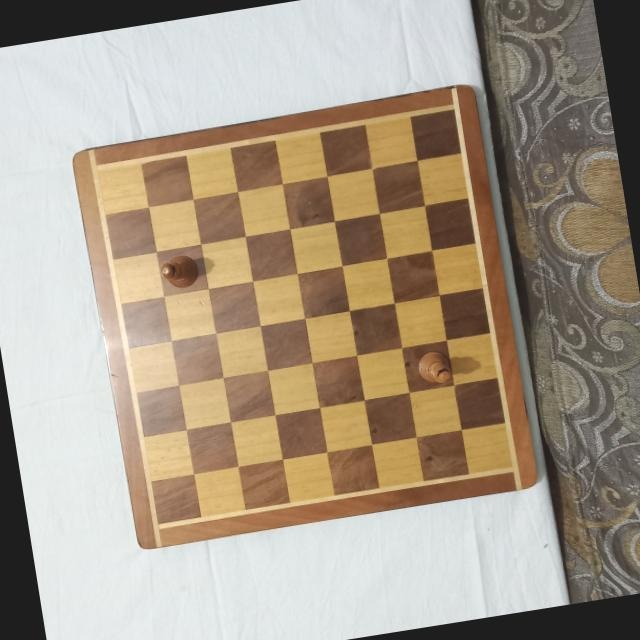white-bishop: (411, 345, 454, 387), (157, 251, 202, 291)
